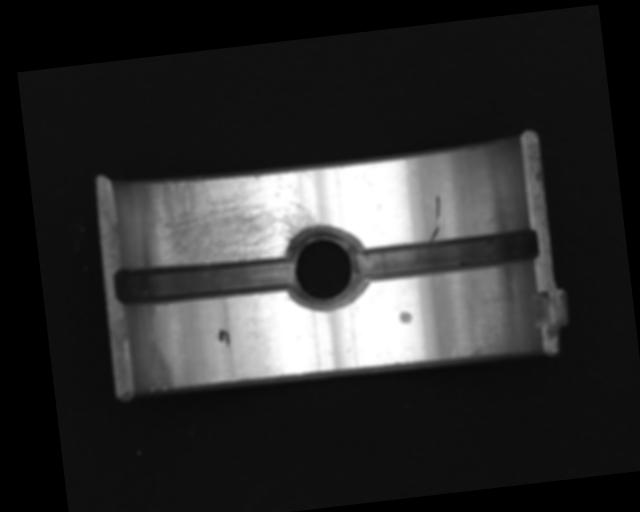blot: (217, 327, 231, 347)
bruise: (398, 309, 413, 325)
gap: (112, 251, 297, 310), (354, 226, 542, 284)
hole: (281, 220, 369, 314)
nick: (425, 195, 445, 244)
scratch: (148, 163, 323, 273)
